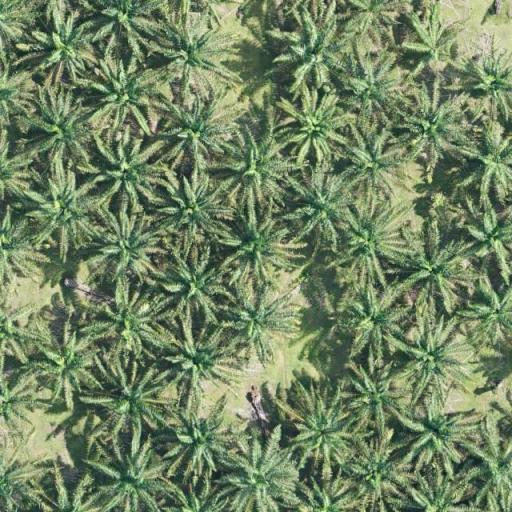Ganoderma: (414, 26, 457, 68)
